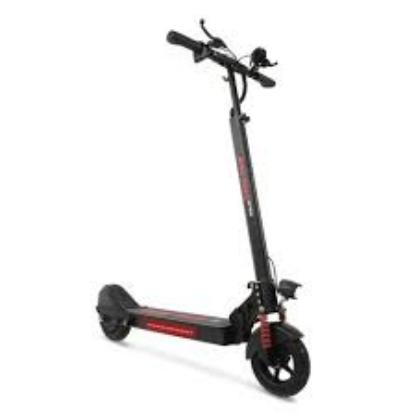bike: (95, 265, 311, 399)
